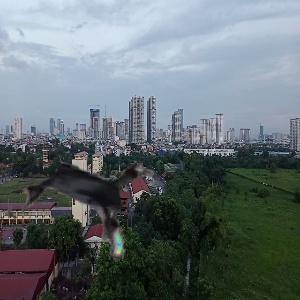drone: (6, 124, 164, 282)
